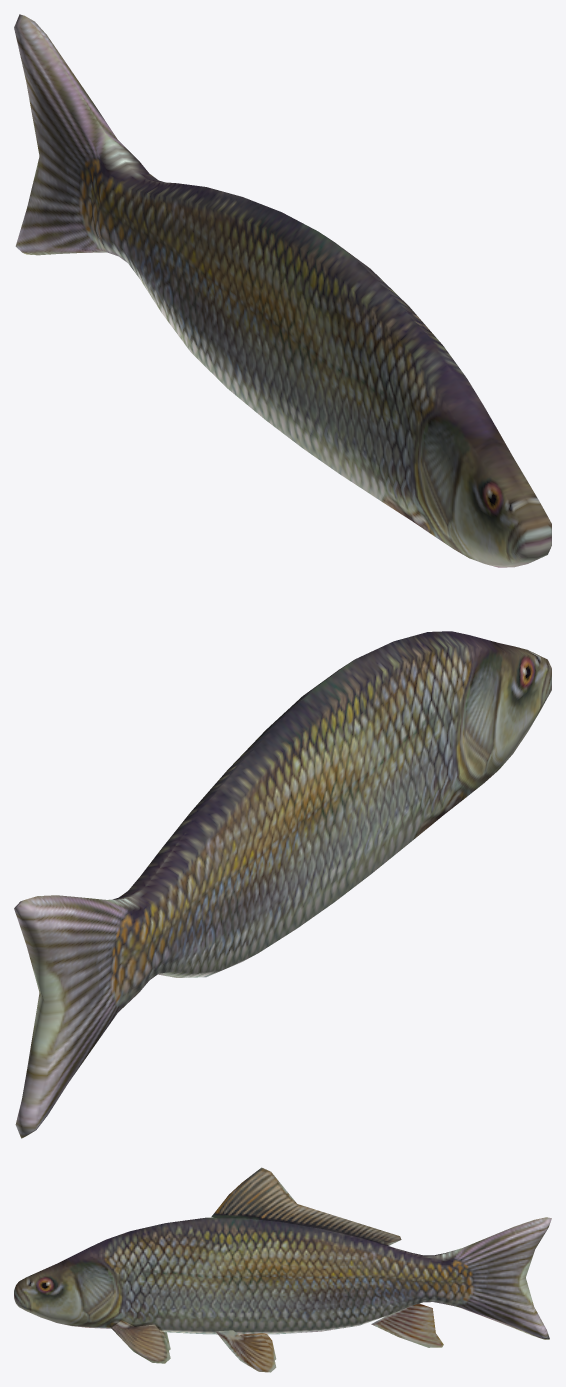
File: fish.glb
3 renders of one model, top to bottom at view 1: azimuth 30°, elevation 25°; view 2: azimuth 150°, elevation 25°; view 3: azimuth 270°, elevation 25°, orthographic. The views are drawn at different scales.
Parts seen in each view (by area): view 1: fish_Cube; view 2: fish_Cube; view 3: fish_Cube.
Boxes of the visible parts, x1,y1,x2,y2 form: fish_Cube: (14, 14, 551, 567); fish_Cube: (14, 631, 551, 1138); fish_Cube: (14, 1167, 551, 1372).
Size of the model in its own units: 0.2435 by 2.09 by 5.06.
1 material, 1 textured.
